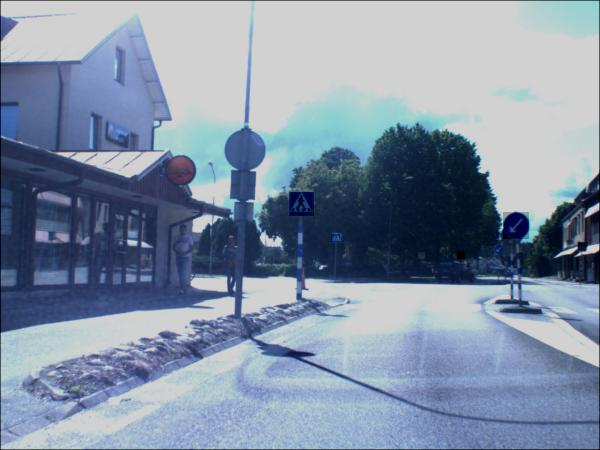50_SIGN: (457, 252, 466, 261)
PASS_RIGHT_SIDE: (503, 213, 530, 241), (494, 246, 505, 256)
PEDESTRIAN_CROSSING: (289, 193, 315, 218), (578, 243, 589, 252), (331, 235, 341, 244), (468, 259, 473, 265)
PRIORITY_ROAD: (418, 253, 426, 261)
